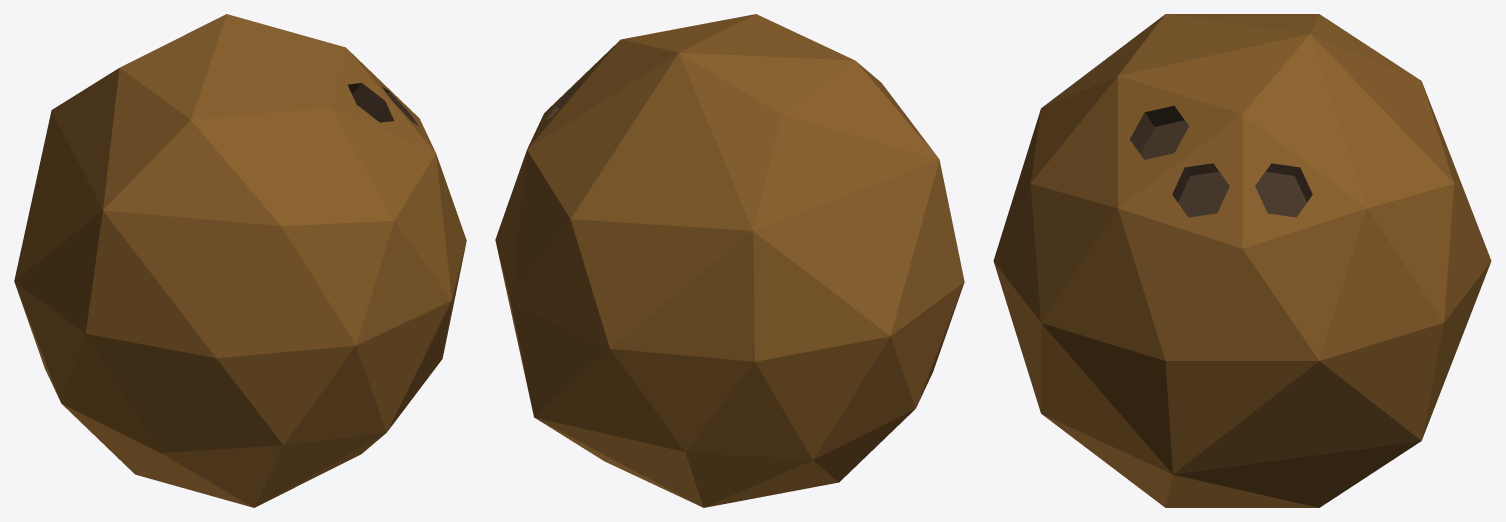
Rendered from ENVI_LV2-3_Kelapa.fbx.
3 views of the same model, side by side, from view 1: azimuth 30°, elevation 25°; view 2: azimuth 150°, elevation 25°; view 3: azimuth 270°, elevation 25° (orthographic). The views are drawn at different scales.
Parts seen in each view (by area): view 1: Kelapa; view 2: Kelapa; view 3: Kelapa.
Part boxes in pixels (box(x1,y1,x2,y2)): Kelapa: box(14, 14, 466, 507); Kelapa: box(495, 14, 964, 507); Kelapa: box(993, 14, 1491, 507).
Size of the model in its own units: 36.31 by 39.99 by 38.17.
